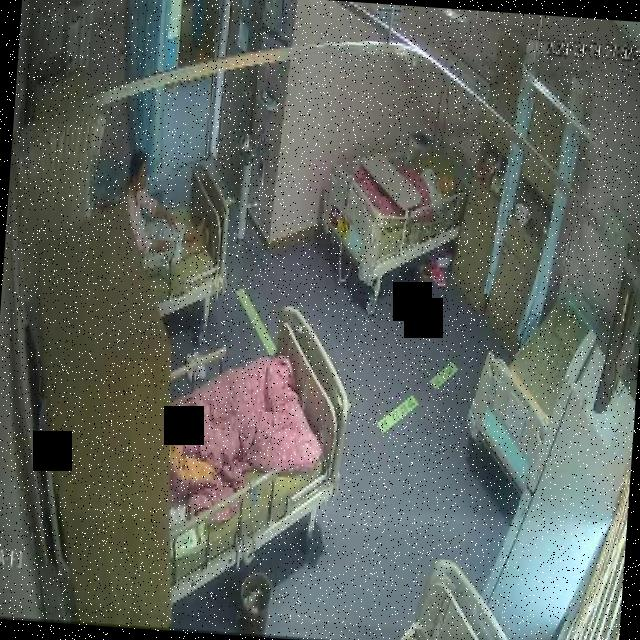bed: (157, 299, 356, 576), (305, 114, 471, 313), (461, 288, 593, 500), (125, 154, 235, 322)
patient: (111, 152, 216, 276), (411, 162, 458, 210)
sit: (112, 156, 214, 271)
